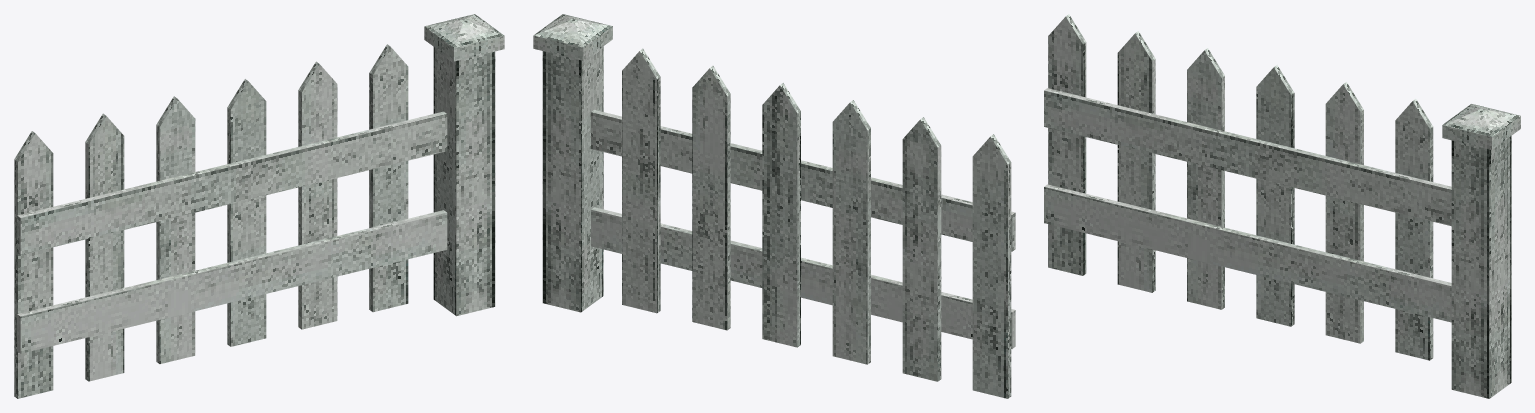
File: white_picket_fence_closed_left.glb
3 views of the same model, side by side, from view 1: azimuth 30°, elevation 25°; view 2: azimuth 150°, elevation 25°; view 3: azimuth 330°, elevation 25° (orthographic). The views are drawn at different scales.
Visible parts, largest first — view 1: white_picket_fence_closed_left; view 2: white_picket_fence_closed_left; view 3: white_picket_fence_closed_left.
Part boxes in pixels (x1,y1,x2,y2): white_picket_fence_closed_left: (14,14,504,398); white_picket_fence_closed_left: (533,14,1015,398); white_picket_fence_closed_left: (1044,14,1520,398).
Bounding box in the file's own units: 2.99 × 1.71 × 0.3266.
Materials: 1 (1 with a texture image).
